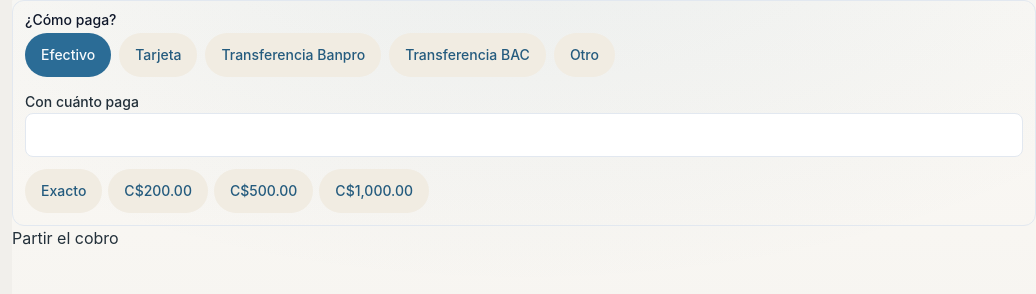
Test: PosPaymentRows › con efectivo ofrece «Exacto» y los billetes, y llenan el monto
Click the button "C$500.00" at (264, 191), box [214,169,313,213]
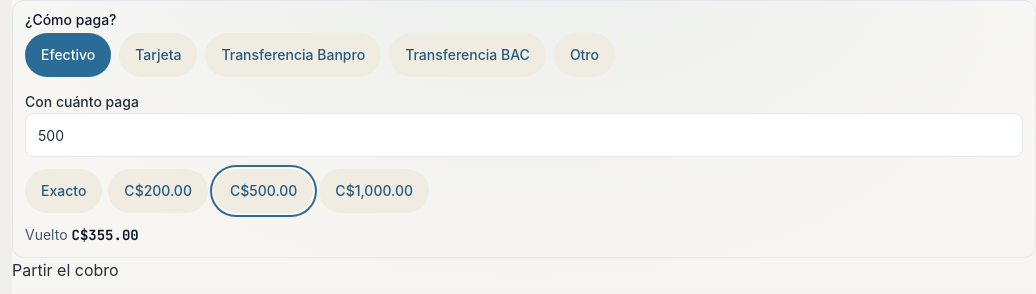
Expected: the number field labelled "Con cuánto paga" holds "500", [25,113,1023,157]
Click the button "Exacto" at (64, 191), box [25,169,102,213]
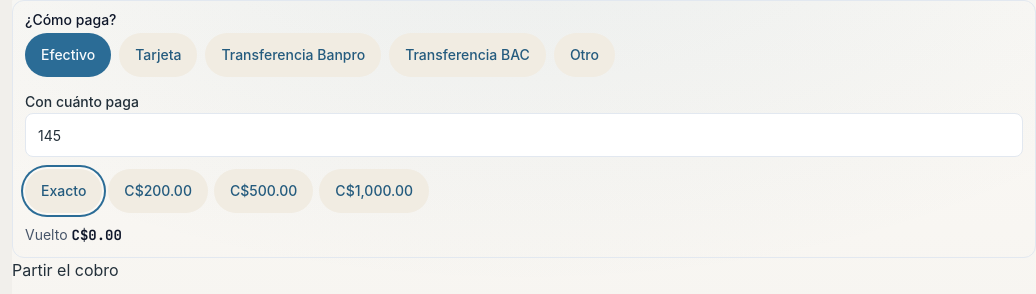
Expected: the number field labelled "Con cuánto paga" holds "145", [25,113,1023,157]
